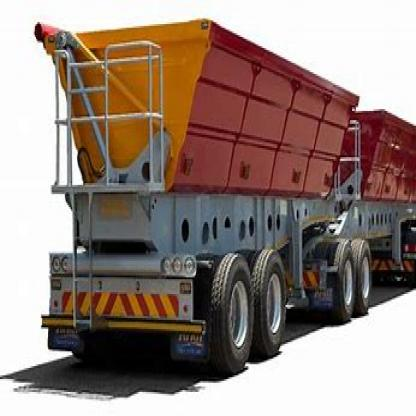dump_truck: (32, 8, 415, 378)
